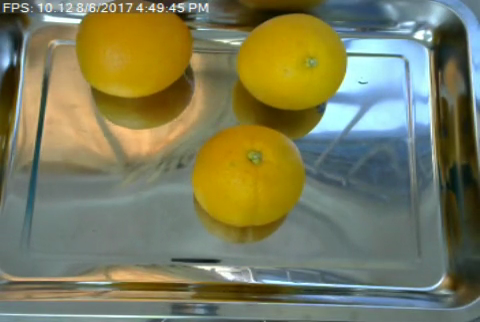Orange: (190, 125, 307, 227), (75, 2, 195, 98), (237, 13, 348, 110)
